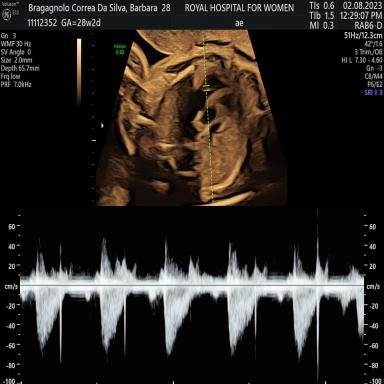Ultrasound-Waves: (25, 213, 362, 384)
